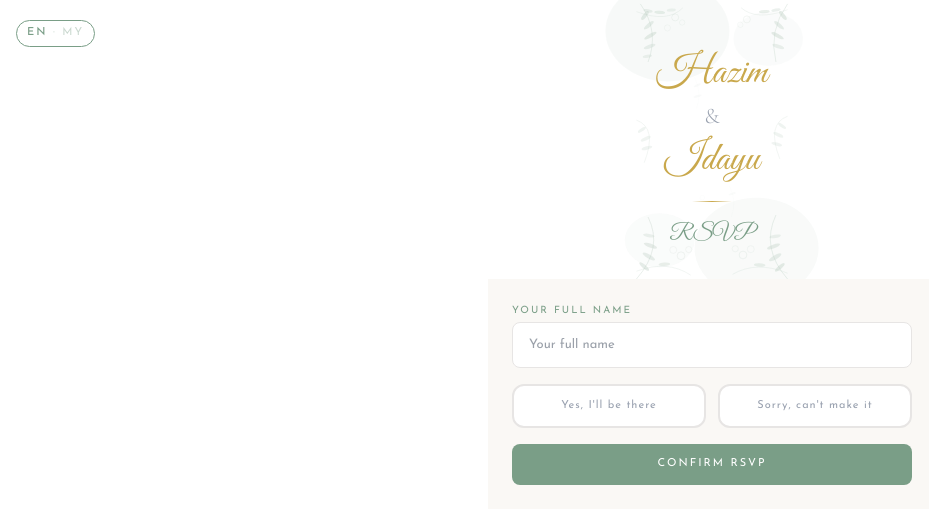
Test case: RsvpPage › shows error when name is blank on submit
The image size is (929, 530).
Click the button "Confirm RSVP": (712, 464) [512, 444, 912, 484]
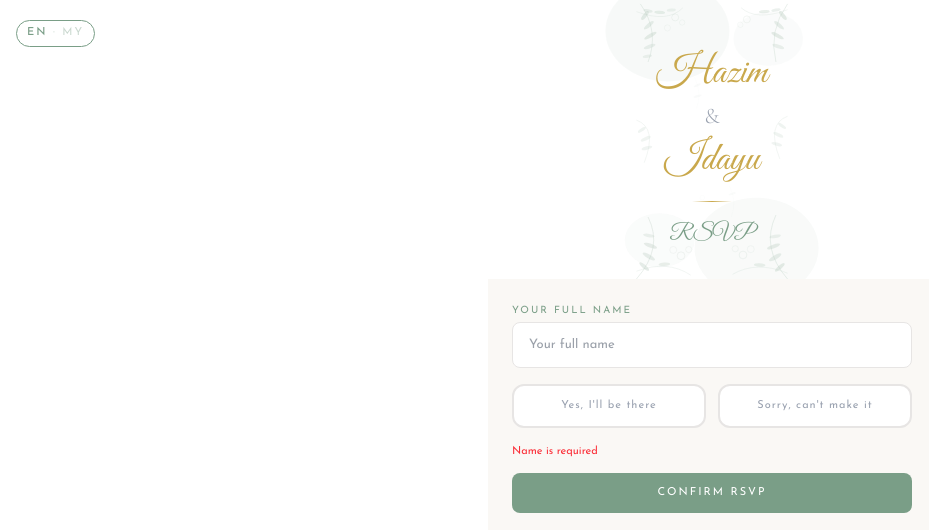
Result: the text "Name is required" is shown at [512, 446, 598, 457]
